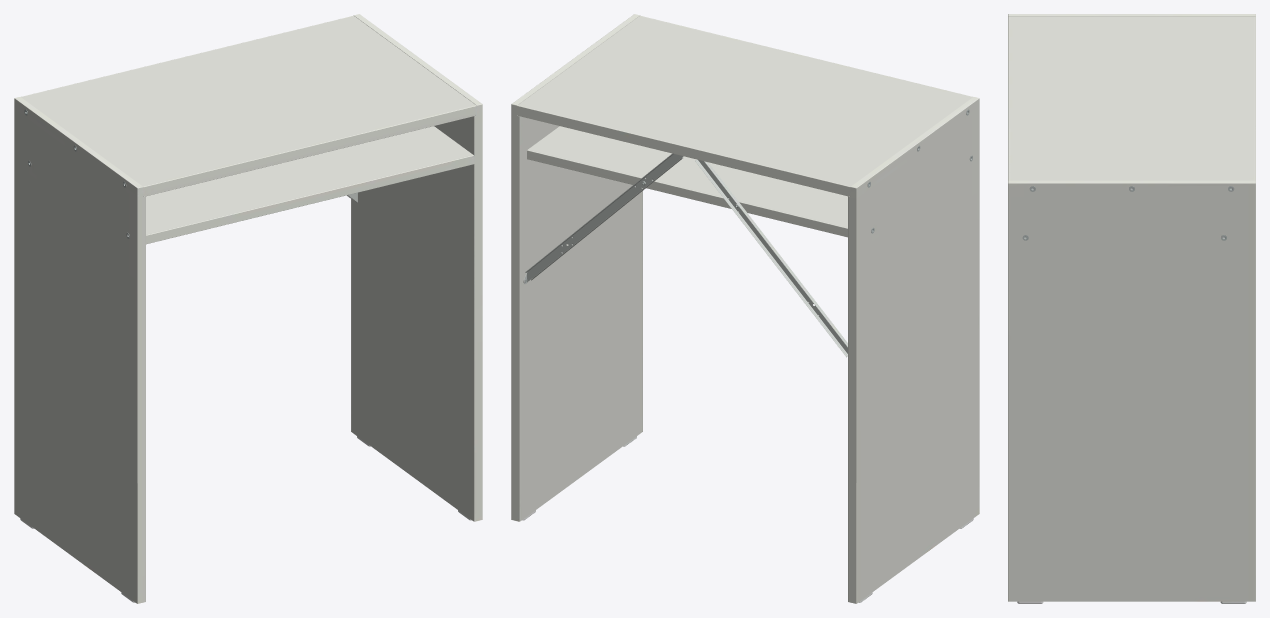
The picture shows the model from 3 angles, left to right: view 1: azimuth 30°, elevation 25°; view 2: azimuth 150°, elevation 25°; view 3: azimuth 270°, elevation 25°; orthographic projection.
Parts seen in each view (by area): view 1: Mesh_0; view 2: Mesh_0; view 3: Mesh_0.
Part boxes in pixels (x1=…): Mesh_0: x1=14, y1=14, x2=482, y2=603; Mesh_0: x1=511, y1=14, x2=979, y2=603; Mesh_0: x1=1008, y1=14, x2=1255, y2=603.
Size of the model in its own units: 0.65 by 0.75 by 0.4001.
1 material, 1 textured.
